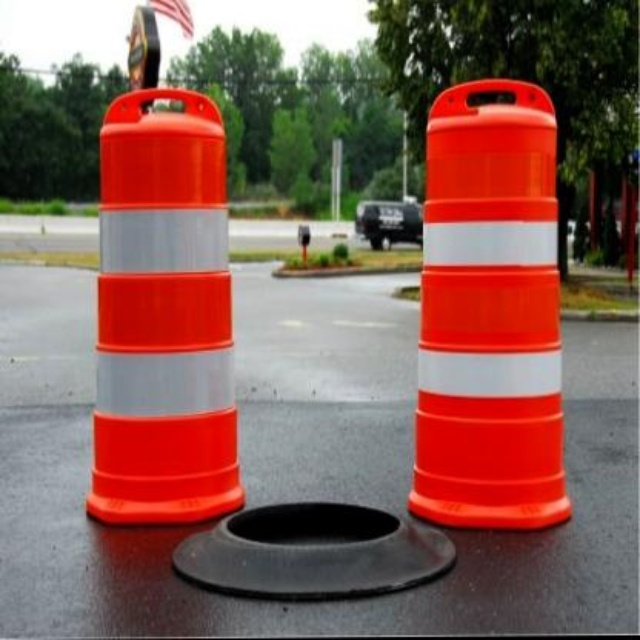obstacle: (407, 74, 578, 535), (84, 82, 243, 530)
